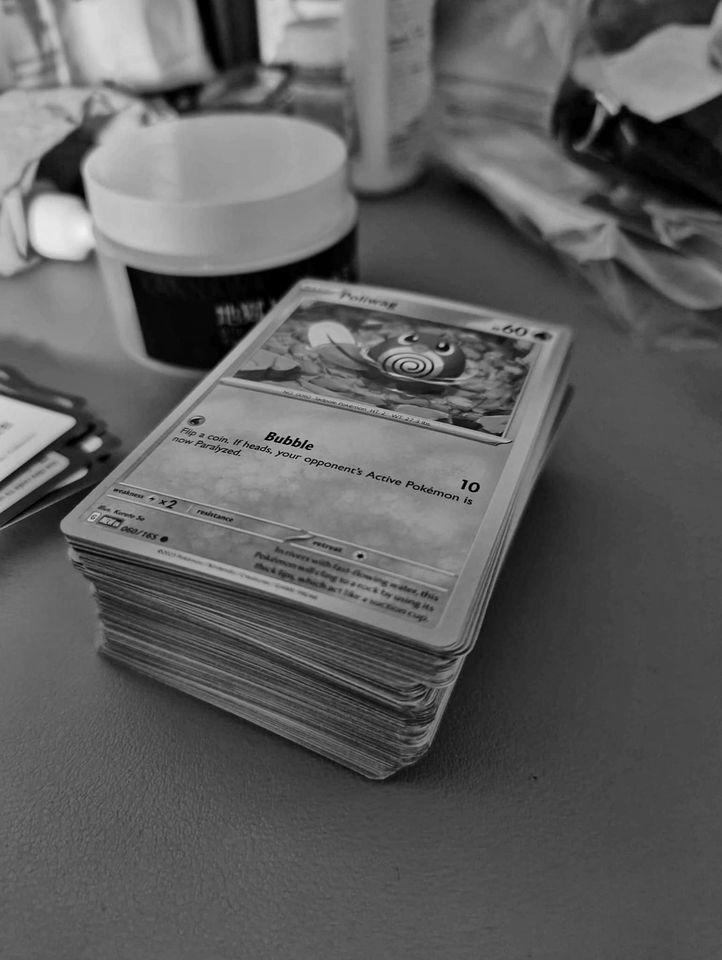card: (58, 278, 573, 648)
